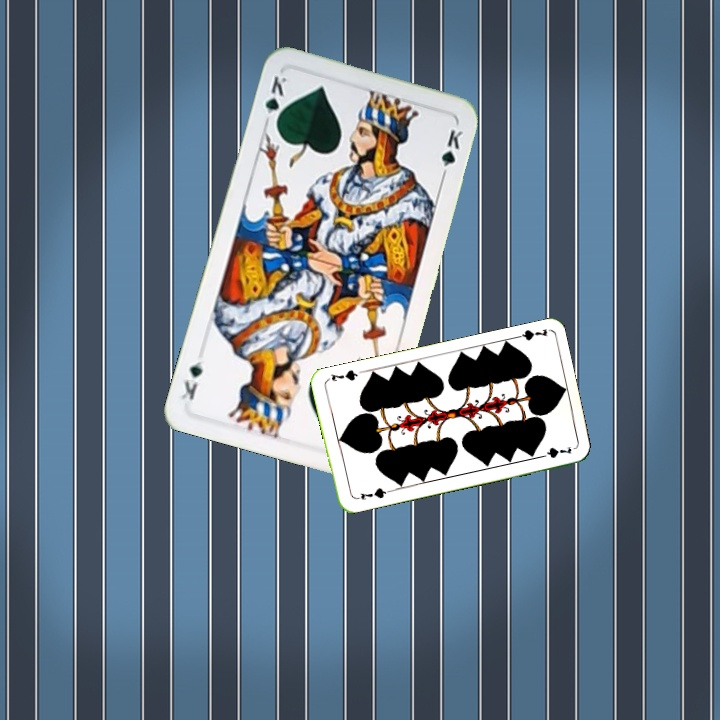G7: (351, 484, 391, 503), (508, 325, 550, 343)
GK: (260, 71, 289, 130)
